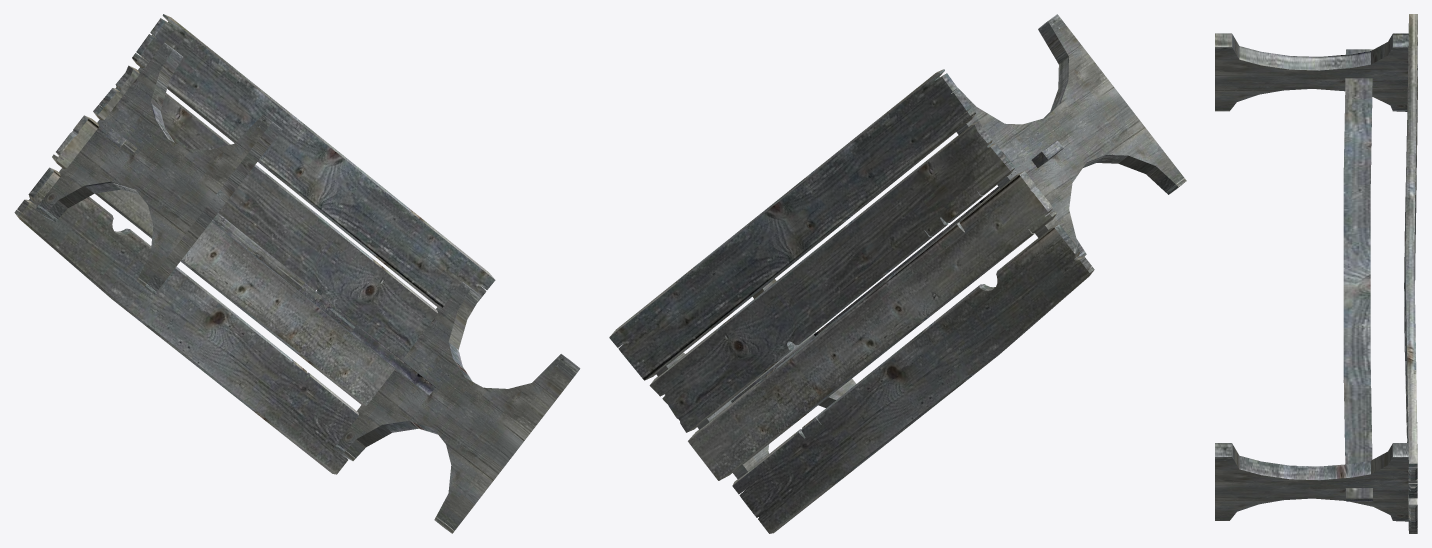
The model's file is bench.dae.
The picture shows the model from 3 angles, left to right: view 1: azimuth 30°, elevation 25°; view 2: azimuth 150°, elevation 25°; view 3: azimuth 270°, elevation 25°; orthographic projection. The views are drawn at different scales.
Parts seen in each view (by area): view 1: ID111, ID140, ID173, ID160, ID132, ID124, ID181; view 2: ID111, ID132, ID140, ID124, ID173, ID181, ID160; view 3: ID181, ID160, ID173, ID140, ID132, ID111, ID124.
Boxes of the visible parts, x1,y1,x2,y2 form: ID111: (14,167,358,474); ID140: (132,14,495,308); ID173: (35,42,282,294); ID160: (333,282,580,533); ID132: (93,65,437,359); ID124: (52,115,394,405); ID181: (105,128,435,395); ID111: (732,224,1094,533); ID132: (649,121,1015,432); ID140: (609,69,975,380); ID124: (688,171,1056,480); ID173: (956,14,1186,256); ID181: (731,140,1063,402); ID160: (656,279,855,479); ID181: (1343,49,1372,501); ID160: (1215,443,1408,521); ID173: (1215,33,1408,111); ID140: (1404,14,1417,480); ID132: (1404,37,1417,498); ID111: (1405,77,1417,533); ID124: (1404,68,1417,521).
Bounding box in the file's own units: 2.02 × 2.02 × 0.8328.
Materials: 3 (3 with a texture image).
